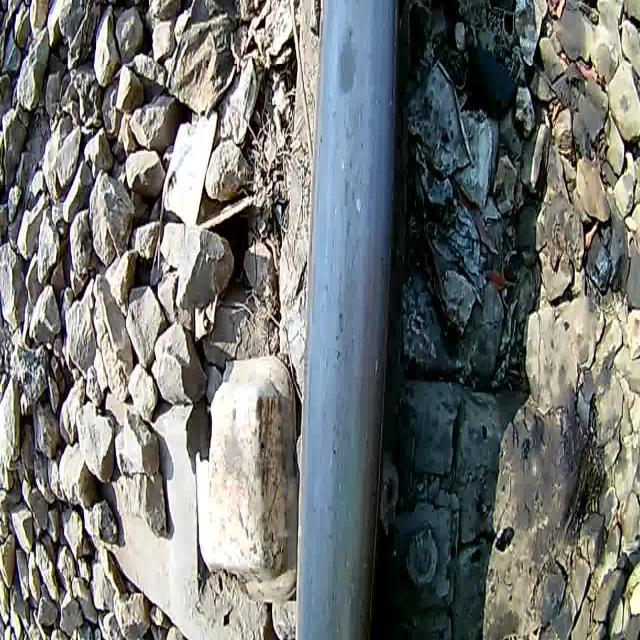Squats: (272, 0, 422, 640)
